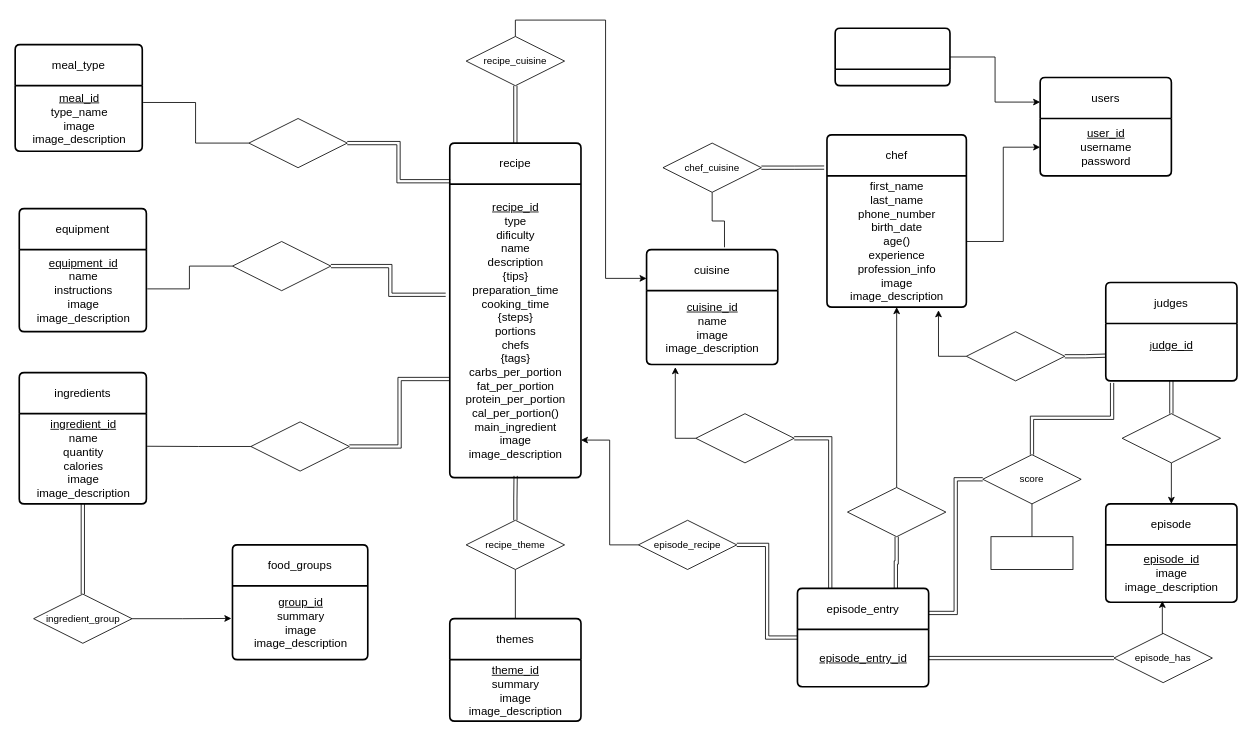
Image size: 1251x736. Some labels were removed from this diagram. Each missing label, with the centre of its shape:
"admin" belongs at [892,56].
"episode_chef" belongs at [896,512].
"episode_cuisine" belongs at [744,438].
"episode_judge" belongs at [1171,438].
"recipe_equipment" belongs at [281,266].
"recipe_ingredients" belongs at [299,446].
"recipe_meal" belongs at [297,143].
"select_judges" belongs at [1015,356].
"value" belongs at [1031,552].
